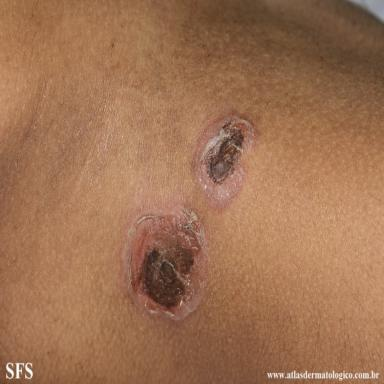Impetigo: (122, 205, 208, 321), (192, 110, 258, 208)
